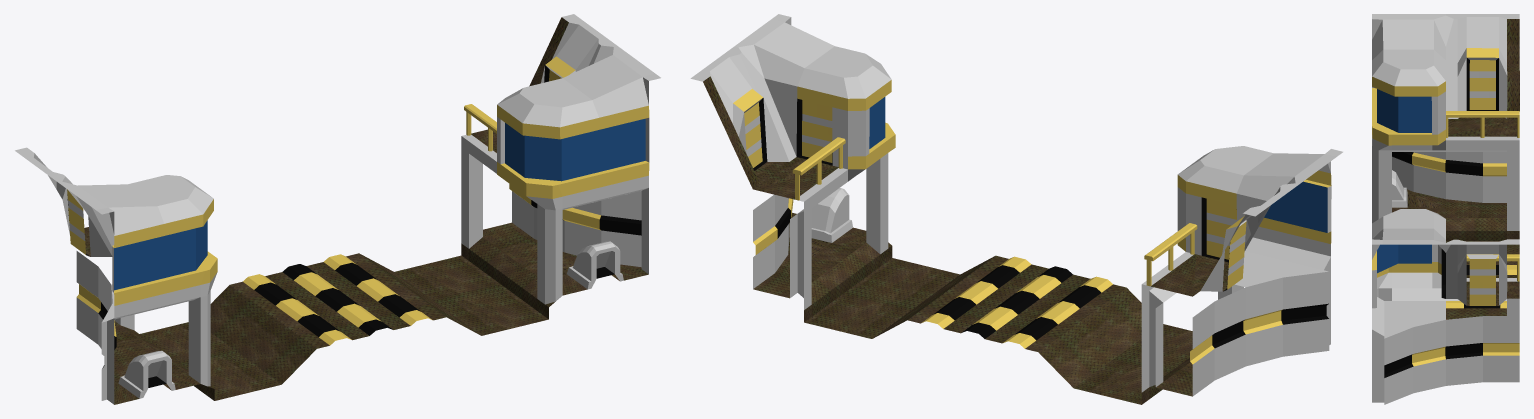
Rendered from TileLv2Join.fbx.
The picture shows the model from 3 angles, left to right: view 1: azimuth 30°, elevation 25°; view 2: azimuth 150°, elevation 25°; view 3: azimuth 270°, elevation 25°; orthographic projection. The views are drawn at different scales.
Visible parts, largest first — view 1: Cube; view 2: Cube; view 3: Cube.
Boxes of the visible parts, box(x1,y1,x2,y2) form: Cube: box(15, 14, 660, 404); Cube: box(690, 14, 1342, 404); Cube: box(1372, 14, 1519, 404).
Size of the model in its own units: 4432 by 1620 by 1201.
